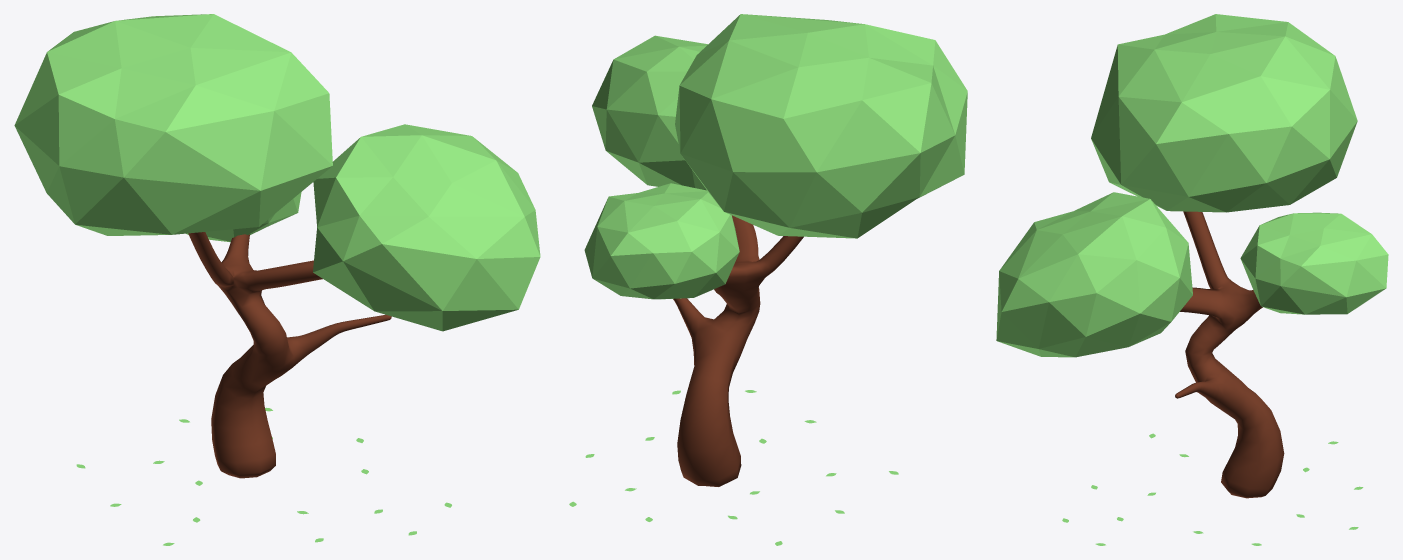
Rendered from tree.fbx.
The picture shows the model from 3 angles, left to right: view 1: azimuth 30°, elevation 25°; view 2: azimuth 150°, elevation 25°; view 3: azimuth 270°, elevation 25°; orthographic projection. The views are drawn at different scales.
Visible parts, largest first — view 1: Icosphere, Icosphere.001, Vert, Icosphere.002; view 2: Icosphere, Icosphere.002, Vert, Icosphere.001, Plane.003; view 3: Icosphere, Icosphere.001, Icosphere.002, Vert.
Boxes of the visible parts, x1,y1,x2,y2 form: Icosphere: (14,14,332,235); Icosphere.001: (313,124,540,331); Vert: (188,232,391,478); Icosphere.002: (186,192,301,242); Icosphere: (675,14,967,238); Icosphere.002: (584,183,739,299); Vert: (673,215,803,486); Icosphere.001: (592,35,707,190); Plane.003: (569,390,898,545); Icosphere: (1091,14,1357,212); Icosphere.001: (996,192,1192,357); Icosphere.002: (1240,212,1388,314); Vert: (1175,211,1284,498).
Size of the model in its own units: 1915 by 2062 by 1789.
